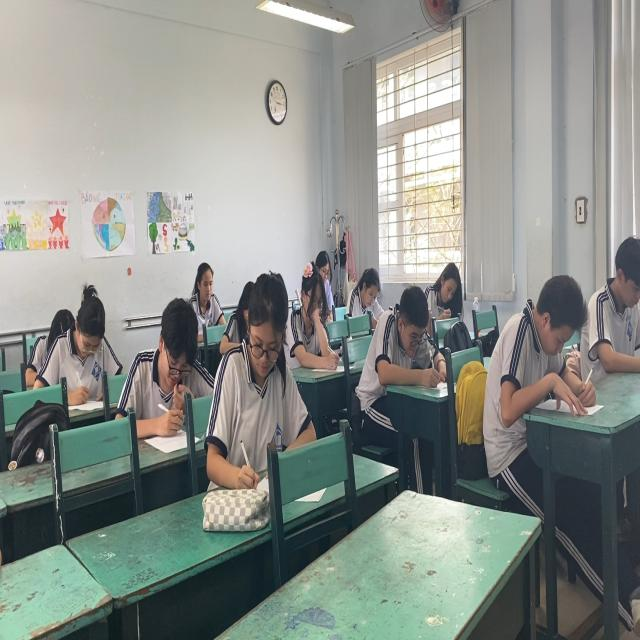not_cheating: (226, 274, 307, 450), (480, 272, 585, 399), (132, 298, 210, 409), (44, 285, 124, 392), (367, 286, 437, 388), (288, 264, 338, 364), (188, 254, 229, 337), (342, 250, 383, 323), (426, 254, 466, 312)
